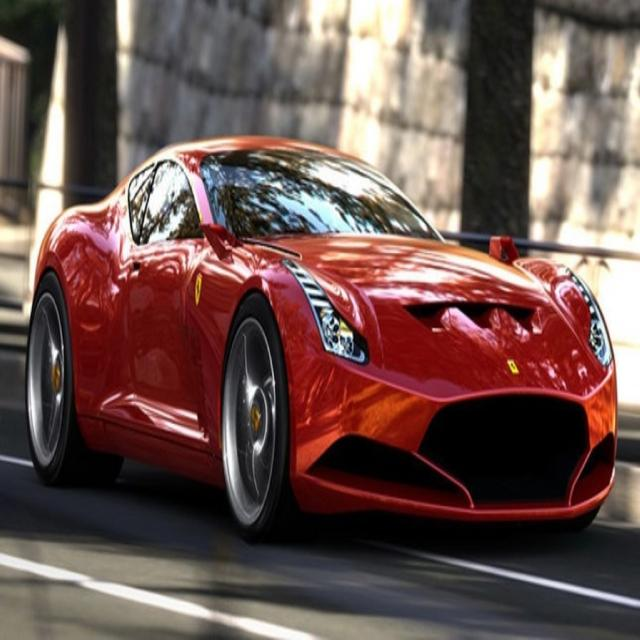car: (24, 128, 619, 543)
